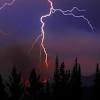smoke: (28, 59, 61, 89)
